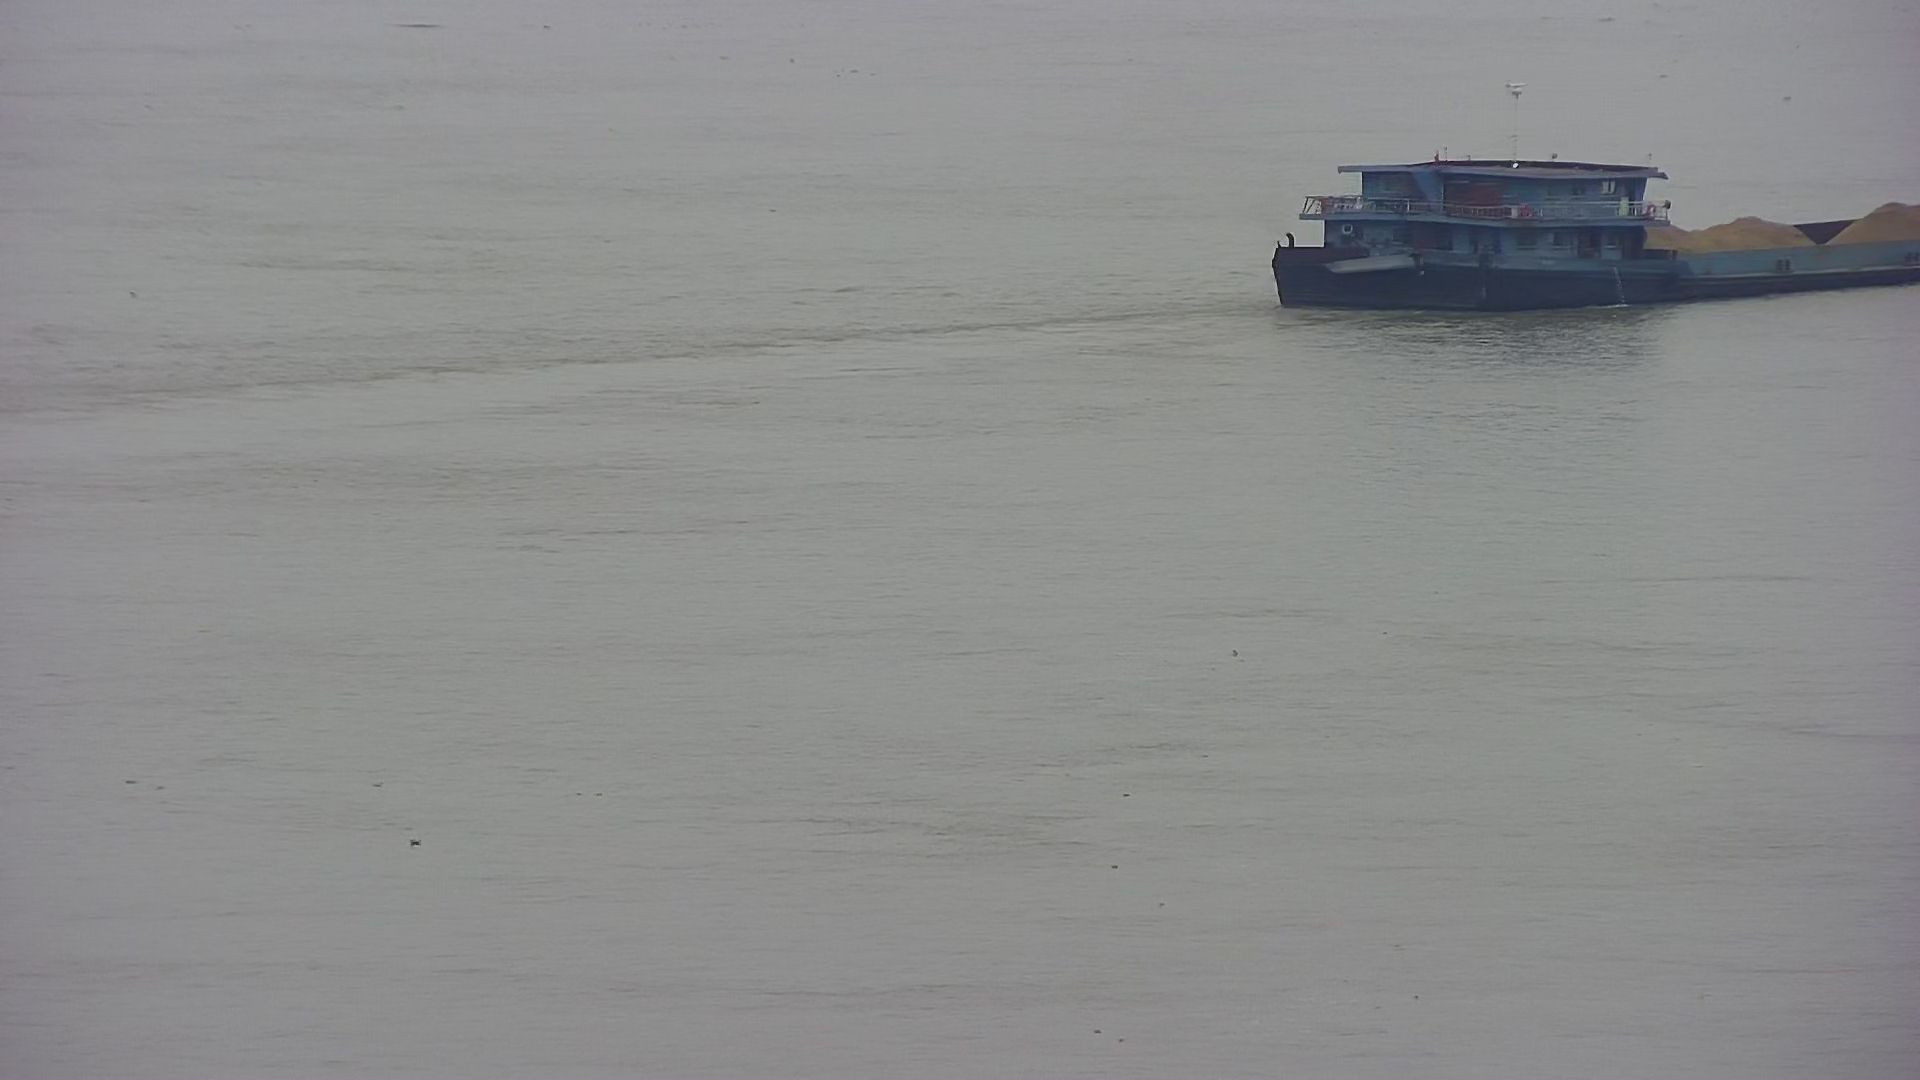ship: (1266, 142, 1920, 339)
